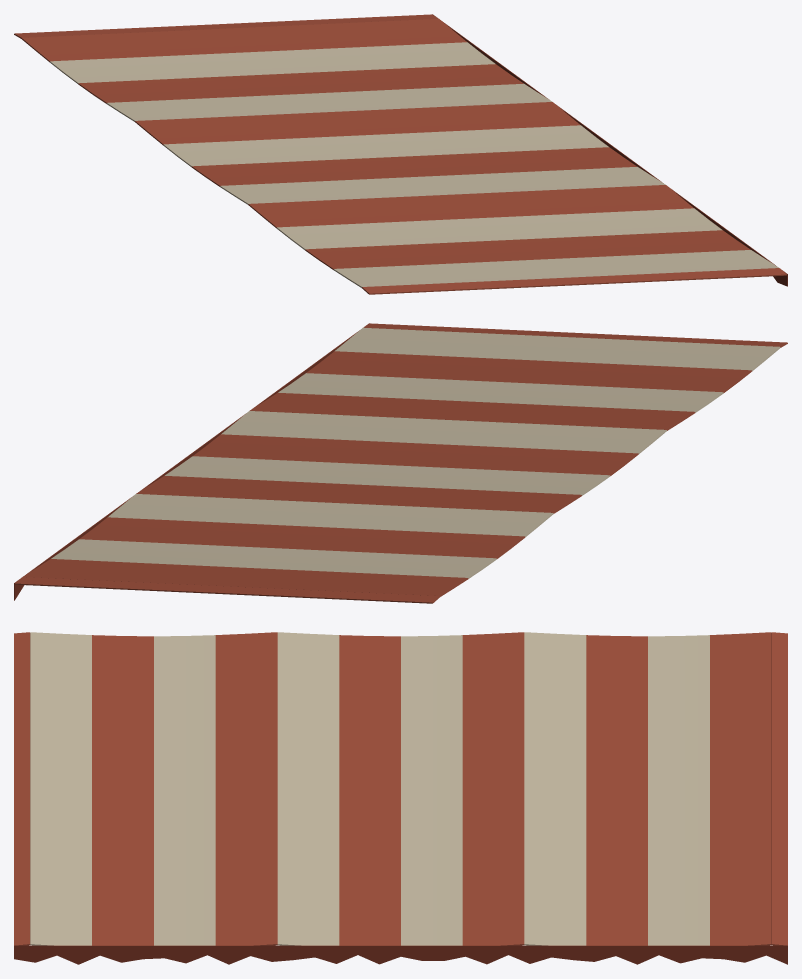
File: ordo_landing_awning.glb
The picture shows the model from 3 angles, top to bottom: view 1: azimuth 30°, elevation 25°; view 2: azimuth 150°, elevation 25°; view 3: azimuth 270°, elevation 25°; orthographic projection. The views are drawn at different scales.
Visible parts, largest first — view 1: ordo_landing_awning; view 2: ordo_landing_awning; view 3: ordo_landing_awning.
Boxes of the visible parts, left/top/right/bottom form: ordo_landing_awning: left=14, top=14, right=787, bottom=294; ordo_landing_awning: left=14, top=323, right=787, bottom=603; ordo_landing_awning: left=14, top=632, right=787, bottom=964.
Bounding box in the file's own units: 11.43 × 2.64 × 16.8.
